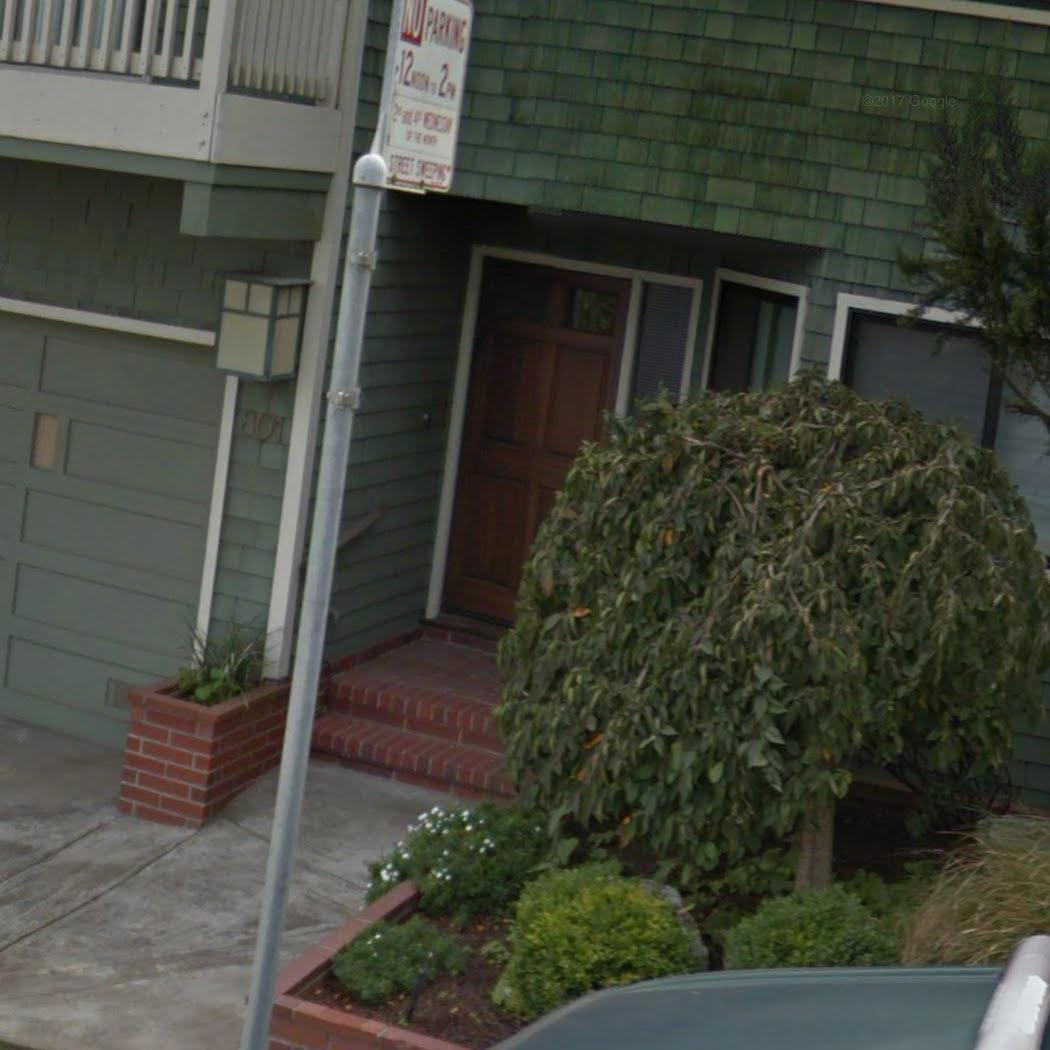No Parking: (367, 3, 482, 185)
